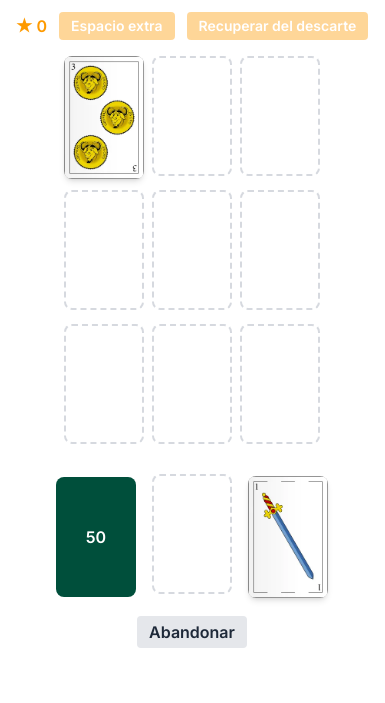
GamePage · orquestación › un movimiento inválido (400) muestra el mensaje del backend
Click the 1st button named "3 de oros".
click(104, 117)  # box [64, 56, 144, 179]
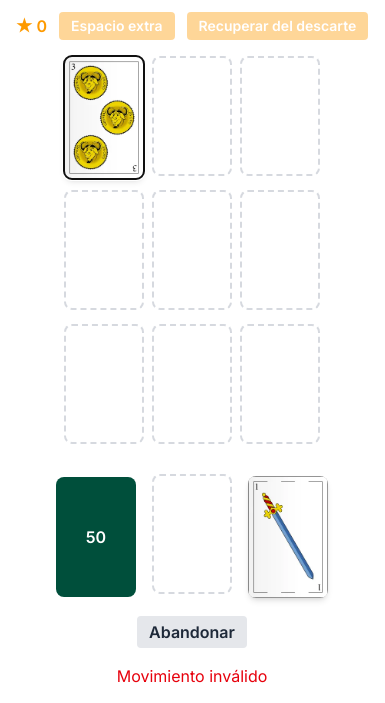
Expected: the message reads "Movimiento inválido", [117, 666, 267, 686]
